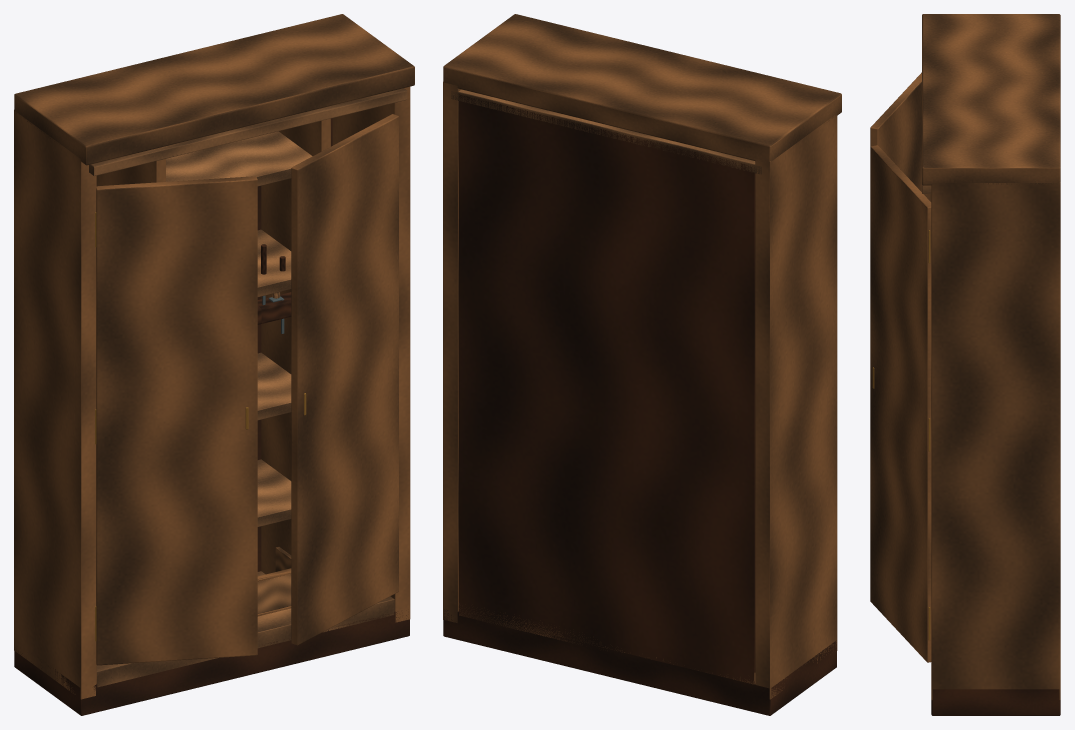
File: asset.glb
The picture shows the model from 3 angles, left to right: view 1: azimuth 30°, elevation 25°; view 2: azimuth 150°, elevation 25°; view 3: azimuth 270°, elevation 25°; orthographic projection. The views are drawn at different scales.
Visible parts, largest first — view 1: MaterialBatch_Room_furniture_quarter-sawn_oak, MaterialBatch_Room_furniture_light_oak, MaterialBatch_Room_furniture_smoked_walnut; view 2: MaterialBatch_Room_furniture_smoked_walnut, MaterialBatch_Room_furniture_quarter-sawn_oak, MaterialBatch_Room_furniture_light_oak; view 3: MaterialBatch_Room_furniture_quarter-sawn_oak, MaterialBatch_Room_furniture_smoked_walnut, MaterialBatch_Room_furniture_aged_brass.
Boxes of the visible parts, left/top/right/bottom form: MaterialBatch_Room_furniture_quarter-sawn_oak: left=14, top=14, right=414, bottom=699; MaterialBatch_Room_furniture_light_oak: left=89, top=88, right=407, bottom=687; MaterialBatch_Room_furniture_smoked_walnut: left=14, top=118, right=409, bottom=715; MaterialBatch_Room_furniture_smoked_walnut: left=443, top=94, right=836, bottom=715; MaterialBatch_Room_furniture_quarter-sawn_oak: left=443, top=14, right=841, bottom=699; MaterialBatch_Room_furniture_light_oak: left=451, top=89, right=761, bottom=684; MaterialBatch_Room_furniture_quarter-sawn_oak: left=870, top=14, right=1060, bottom=700; MaterialBatch_Room_furniture_smoked_walnut: left=931, top=689, right=1060, bottom=715; MaterialBatch_Room_furniture_aged_brass: left=872, top=230, right=930, bottom=640.
Size of the model in its own units: 42 by 69.9 by 21.95.
5 materials, 5 textured.
